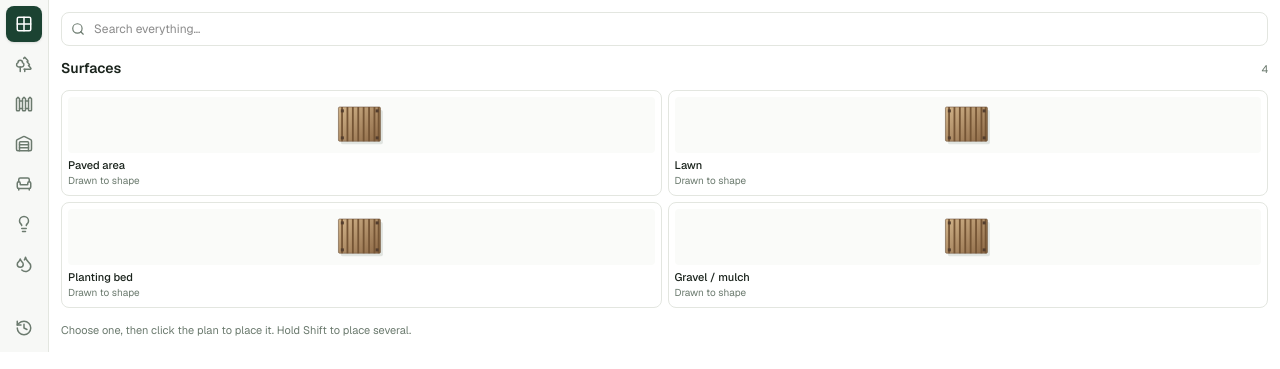
search › reaches across every category, by either name, and clearing it goes back where it was
Click the tab with test id "palette-group-lighting" at (24, 224), box [6,206,42,242]
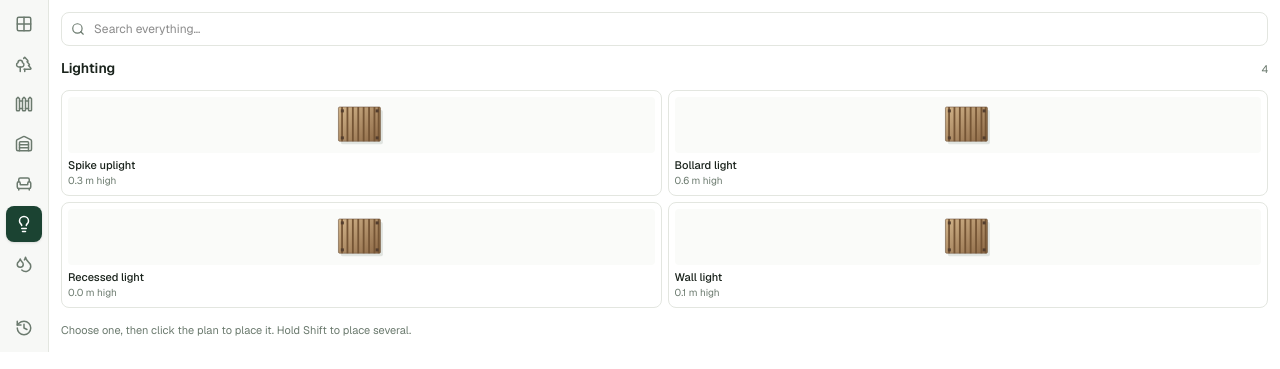
Type "Carpinus" into the search field with test id "palette-search" at (664, 29), box [61,12,1268,46]
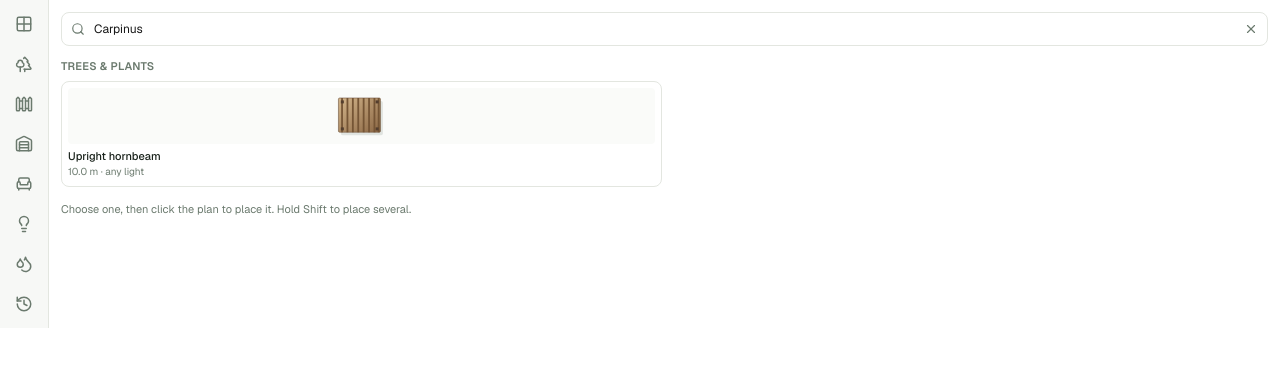
expect the button with test id "palette-carpinus-betulus-fastigiata" is shown: met, box [61,80,662,186]
Replace the text in the search field with test id "palette-search" with "firepit" at (664, 29), box [61,12,1268,46]
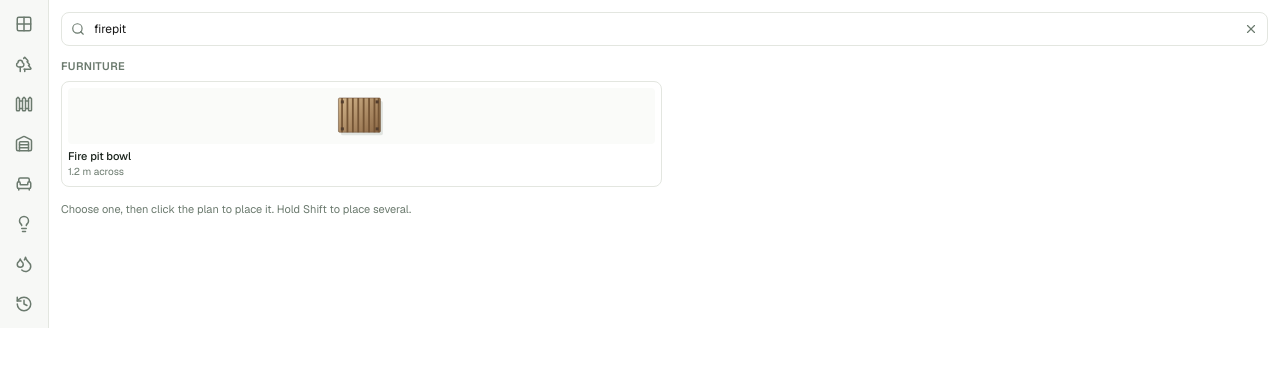
expect the button with test id "palette-fire-pit" is shown: met, box [61,80,662,186]
Clear the search field with test id "palette-search" at (664, 29), box [61,12,1268,46]
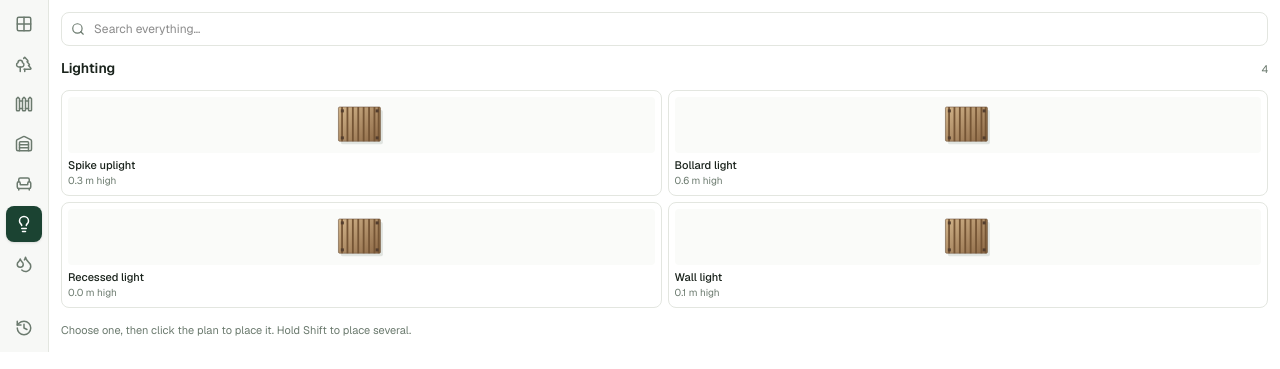
expect the button with test id "palette-light-bollard" is shown: met, box [668,90,1268,196]
